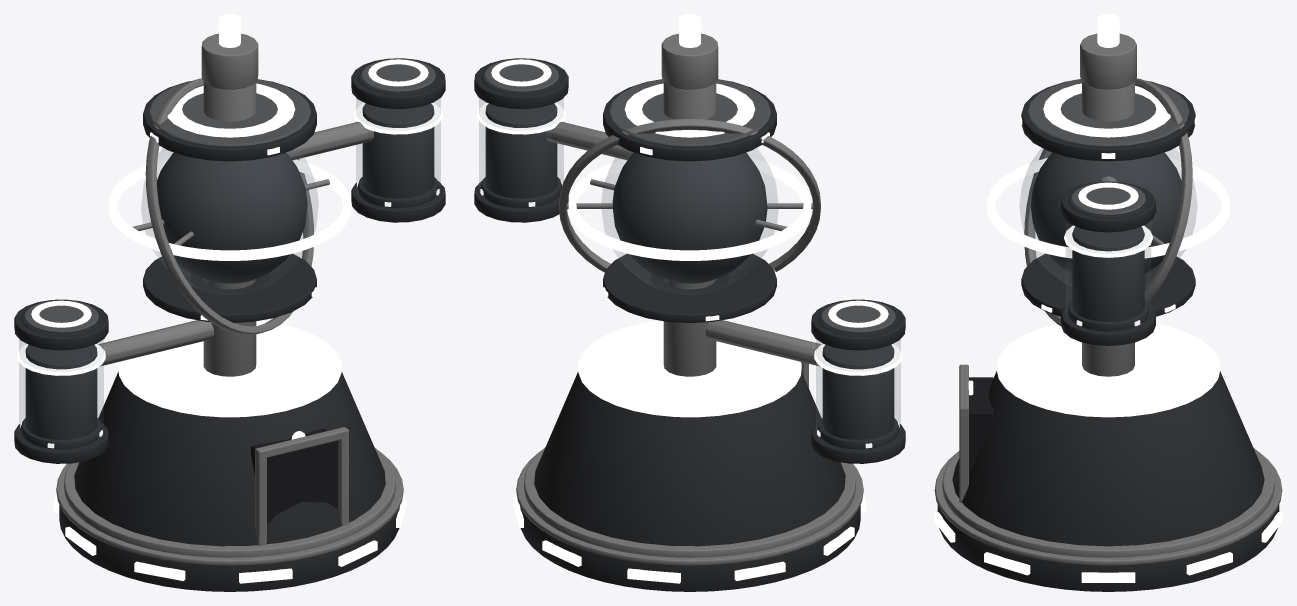
Rendered from Skin_Reactor_T2.glb.
The picture shows the model from 3 angles, left to right: view 1: azimuth 30°, elevation 25°; view 2: azimuth 150°, elevation 25°; view 3: azimuth 270°, elevation 25°; orthographic projection.
Visible parts, largest first — view 1: Skin_Reactor_T2; view 2: Skin_Reactor_T2; view 3: Skin_Reactor_T2.
Boxes of the visible parts, x1,y1,x2,y2 form: Skin_Reactor_T2: (14, 14, 445, 591); Skin_Reactor_T2: (474, 14, 905, 591); Skin_Reactor_T2: (934, 14, 1282, 591).
Size of the model in its own units: 5.1 by 5.84 by 3.67.
